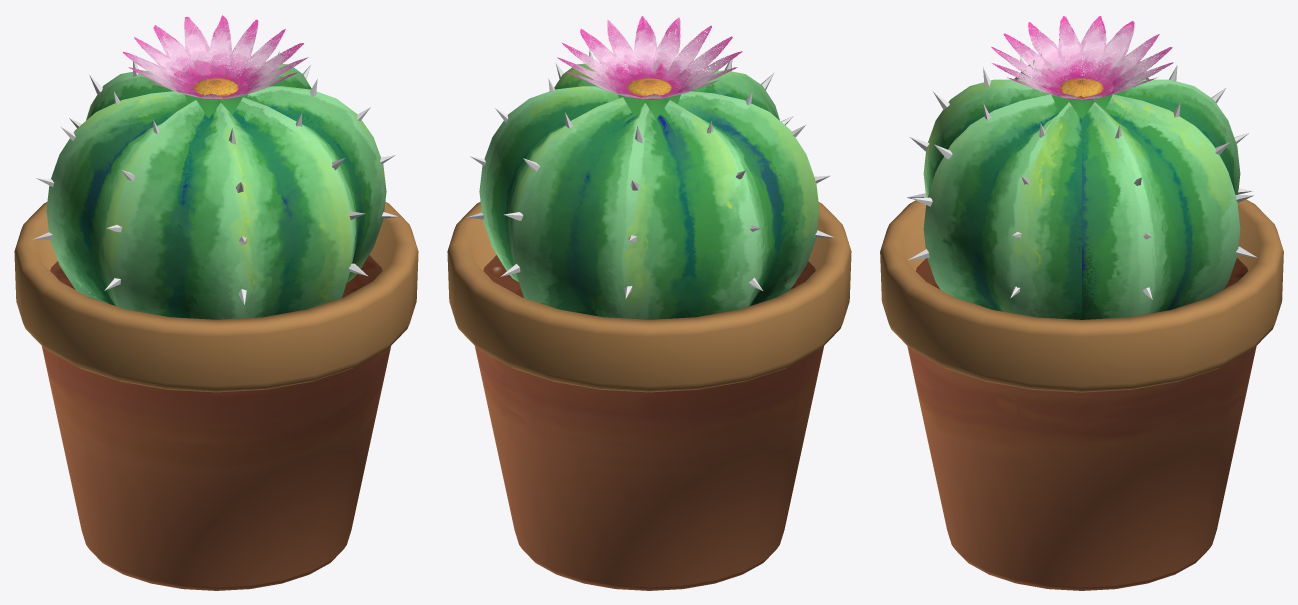
The model's file is potted_plant_2.glb.
3 views of the same model, side by side, from view 1: azimuth 30°, elevation 25°; view 2: azimuth 150°, elevation 25°; view 3: azimuth 270°, elevation 25° (orthographic).
Visible parts, largest first — view 1: pot, cactus, Sphere, spikes; view 2: pot, cactus, Sphere, spikes; view 3: pot, cactus, Sphere, spikes.
Boxes of the visible parts, x1,y1,x2,y2 form: pot: (14, 201, 418, 590); cactus: (46, 58, 386, 319); Sphere: (123, 15, 308, 99); spikes: (33, 43, 398, 304); pot: (447, 201, 851, 590); cactus: (479, 59, 819, 319); Sphere: (557, 16, 742, 99); spikes: (466, 43, 833, 298); pot: (880, 199, 1283, 590); cactus: (923, 58, 1240, 319); Sphere: (991, 16, 1173, 100); spikes: (907, 49, 1256, 299).
Size of the model in its own units: 0.3875 by 0.5117 by 0.3875.
Materials: 4 (3 with a texture image).
